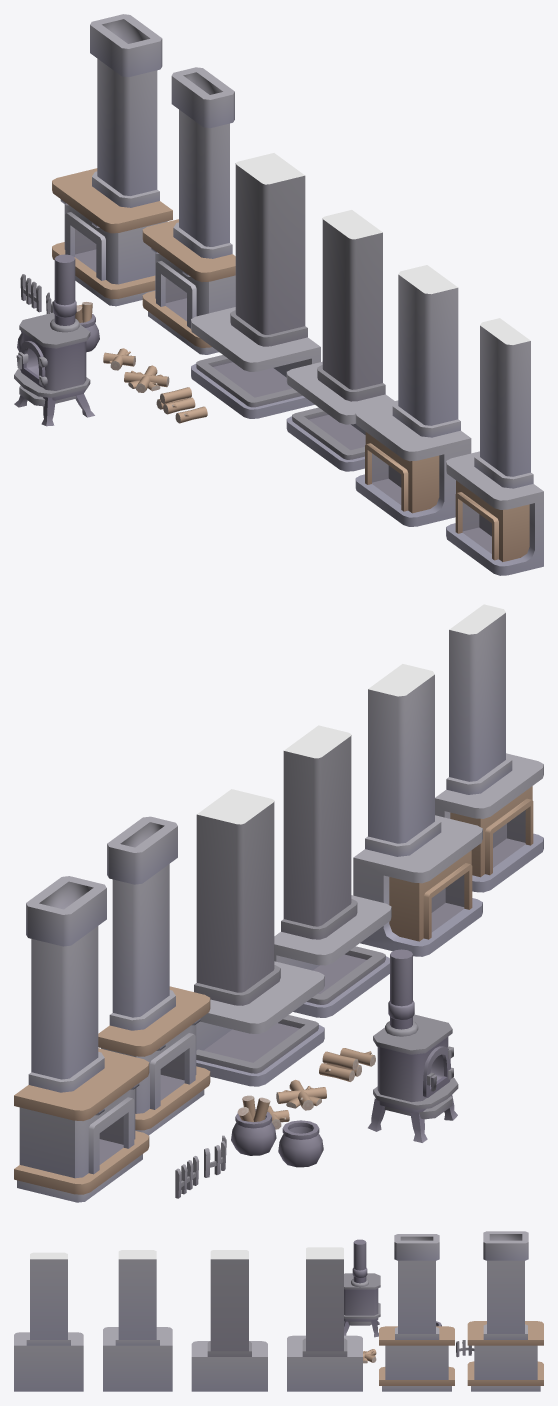
File: fireplaces.glb
3 views of the same model, one above another, from view 1: azimuth 30°, elevation 25°; view 2: azimuth 150°, elevation 25°; view 3: azimuth 270°, elevation 25° (orthographic). The views are drawn at different scales.
Parts seen in each view (by area): view 1: fireplace-modern, fireplace-classic, fireplace-standard (%thumbnail), fireplace-classic-narrow, fireplace-modern-narrow, fireplace-standard-narrow, stove-antique, chimney-top, chimney-top-narrow, stove-antique-chimney, logs-long, logs-stack (+1 smaller); view 2: fireplace-modern, fireplace-standard (%thumbnail), fireplace-classic, fireplace-modern-narrow, fireplace-classic-narrow, fireplace-standard-narrow, stove-antique, chimney-top, chimney-top-narrow, stove-antique-chimney, logs-bucket, logs-bucket-empty (+3 smaller); view 3: fireplace-modern, fireplace-classic, fireplace-standard (%thumbnail), fireplace-modern-narrow, fireplace-classic-narrow, fireplace-standard-narrow, stove-antique, chimney-top, chimney-top-narrow, stove-antique-chimney.
Part boxes in pixels (x1,y1,x2,y2): fireplace-modern: [191, 153, 320, 418]; fireplace-classic: [355, 265, 471, 526]; fireplace-standard (%thumbnail): [52, 58, 172, 306]; fireplace-classic-narrow: [446, 318, 543, 575]; fireplace-modern-narrow: [286, 210, 394, 471]; fireplace-standard-narrow: [142, 109, 235, 354]; stove-antique: [14, 312, 94, 426]; chimney-top: [90, 14, 162, 77]; chimney-top-narrow: [171, 67, 234, 127]; stove-antique-chimney: [50, 254, 79, 332]; logs-long: [124, 365, 169, 392]; logs-stack: [156, 387, 195, 414]; fireplace-modern: [194, 789, 324, 1086]; fireplace-standard (%thumbnail): [14, 926, 149, 1202]; fireplace-classic: [353, 664, 482, 956]; fireplace-modern-narrow: [274, 725, 391, 1017]; fireplace-classic-narrow: [435, 604, 543, 892]; fireplace-standard-narrow: [98, 864, 210, 1135]; stove-antique: [368, 1014, 458, 1142]; chimney-top: [26, 876, 106, 946]; chimney-top-narrow: [107, 816, 177, 884]; stove-antique-chimney: [385, 949, 418, 1036]; logs-bucket: [231, 1095, 276, 1155]; logs-bucket-empty: [278, 1120, 323, 1167]; fireplace-modern: [287, 1247, 362, 1391]; fireplace-classic: [103, 1250, 172, 1391]; fireplace-standard (%thumbnail): [467, 1260, 543, 1391]; fireplace-modern-narrow: [191, 1250, 267, 1391]; fireplace-classic-narrow: [14, 1252, 83, 1391]; fireplace-standard-narrow: [379, 1260, 454, 1391]; stove-antique: [344, 1273, 380, 1337]; chimney-top: [483, 1231, 528, 1260]; chimney-top-narrow: [394, 1234, 439, 1260]; stove-antique-chimney: [351, 1239, 368, 1287].
Size of the model in its own units: 2.69 by 2.61 by 8.35.
